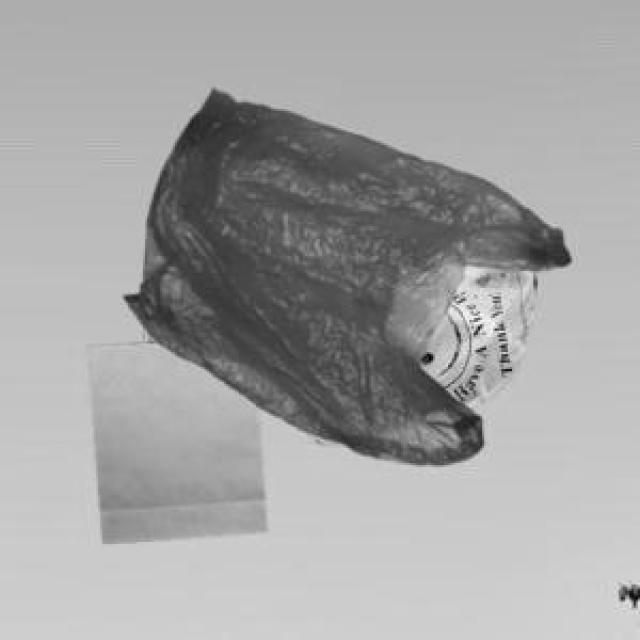paper: (85, 337, 262, 540)
